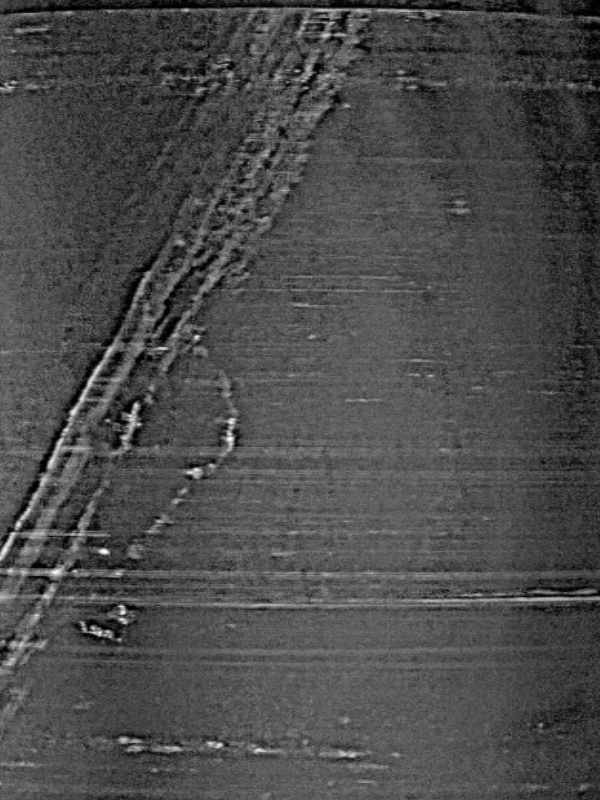splice_vulcanized: (1, 5, 372, 734)
